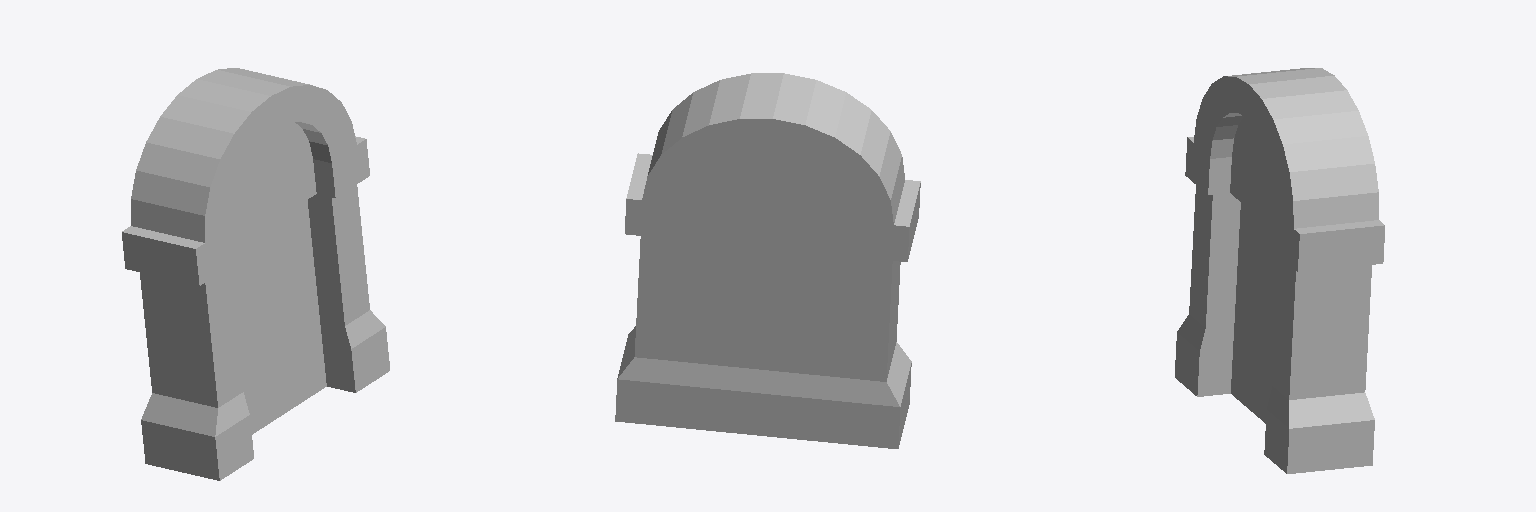
File: Gravestone_Round_4 1.obj
3 views of the same model, side by side, from view 1: azimuth 30°, elevation 25°; view 2: azimuth 150°, elevation 25°; view 3: azimuth 270°, elevation 25° (orthographic).
Visible parts, largest first — view 1: Gravestone_Round_4; view 2: Gravestone_Round_4; view 3: Gravestone_Round_4.
Part boxes in pixels (x1,y1,x2,y2): Gravestone_Round_4: (122,68,389,480); Gravestone_Round_4: (615,73,920,448); Gravestone_Round_4: (1175,68,1384,473).
Bounding box in the file's own units: 0.6092 × 0.723 × 0.4032.